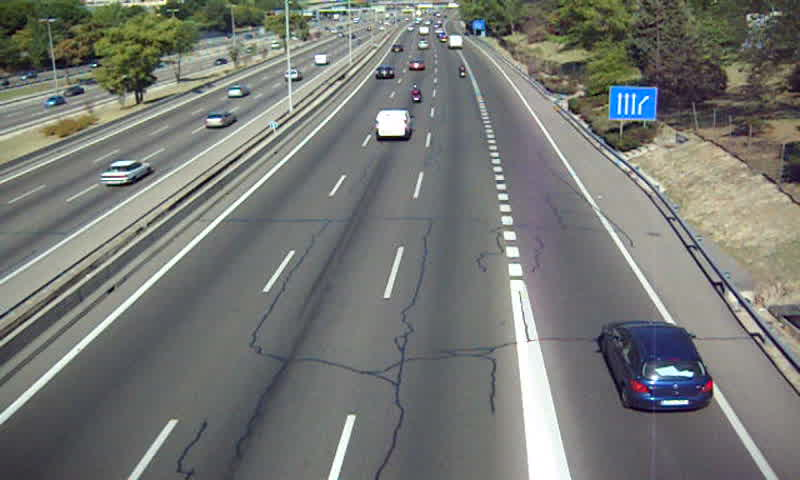car: (599, 319, 712, 411), (373, 65, 394, 81), (407, 60, 424, 73)
motorcycle: (409, 84, 423, 104), (458, 64, 468, 82)
van: (374, 111, 410, 140)
